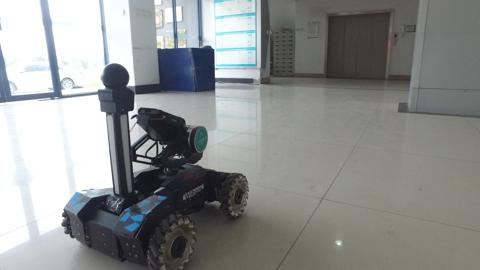chariot: (41, 61, 259, 270)
